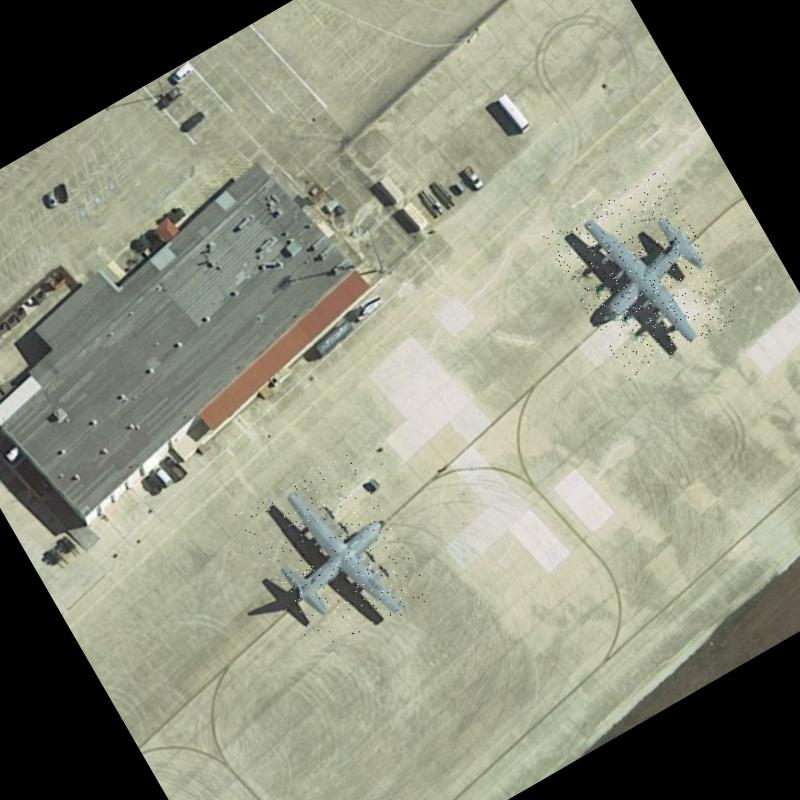A2: (544, 168, 746, 384), (234, 449, 433, 663)
